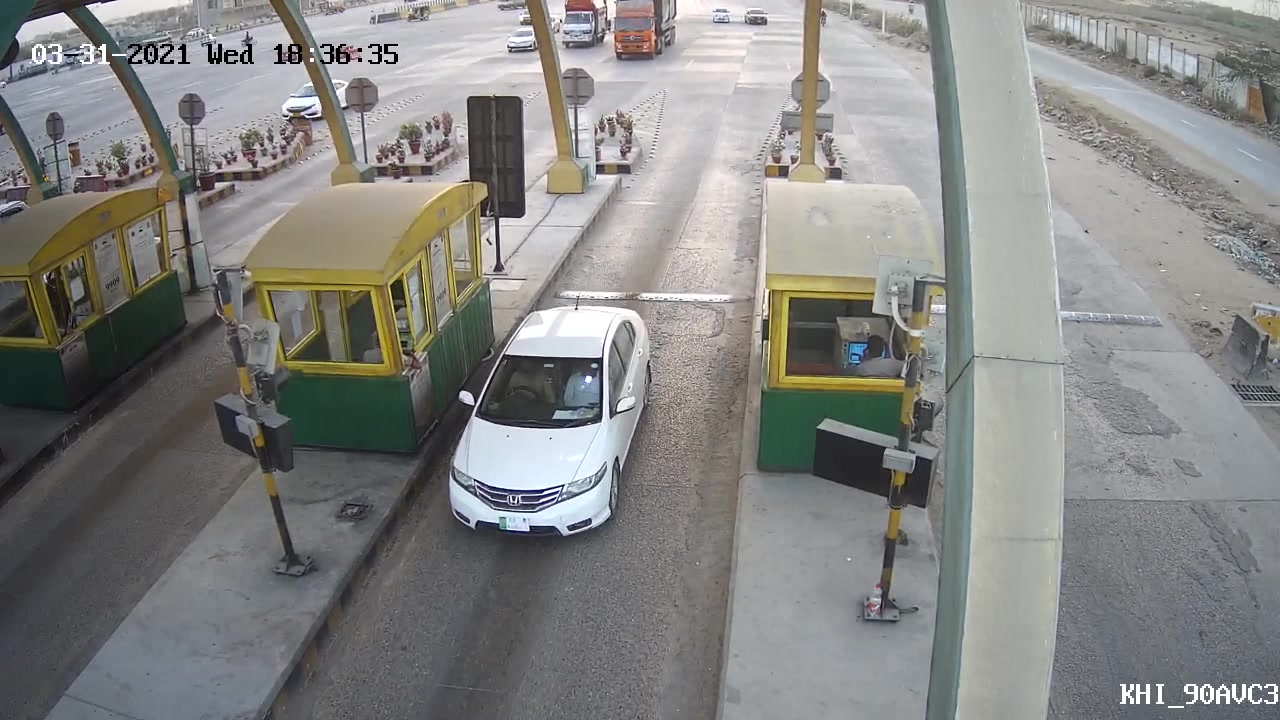F1: (439, 290, 666, 546)
